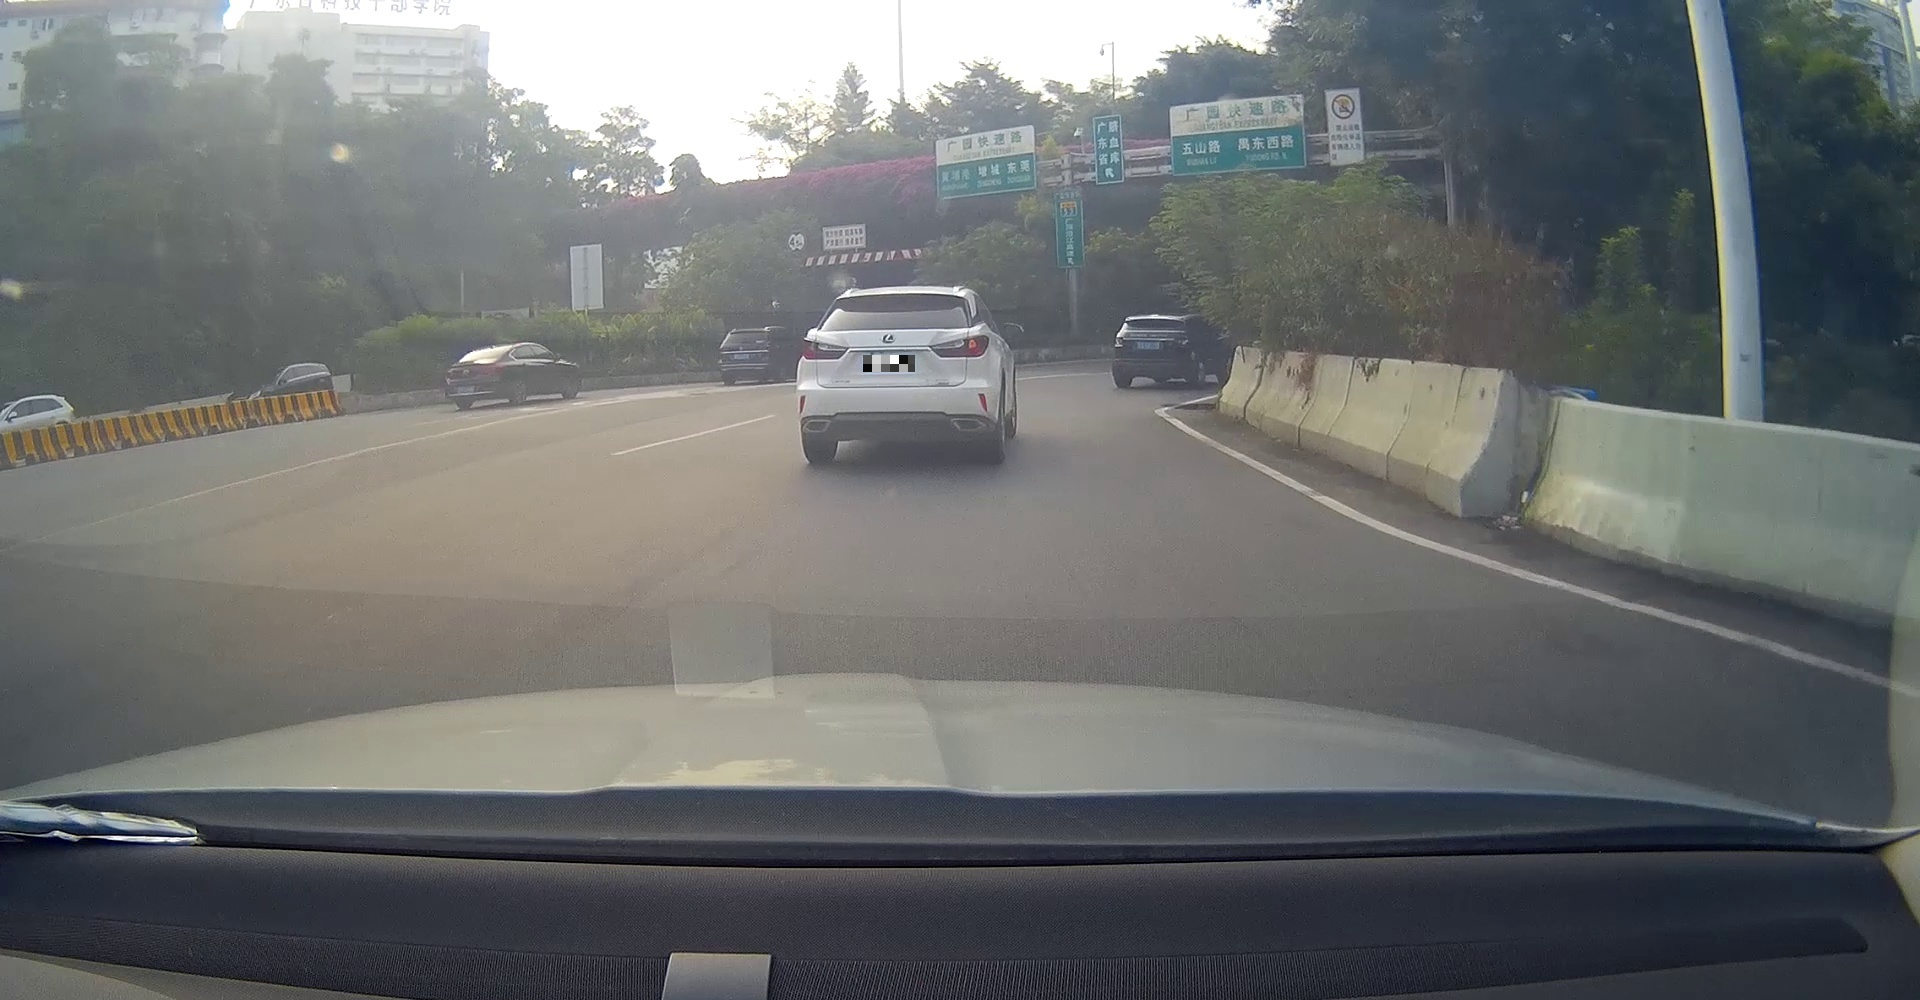L_light: (801, 338, 850, 360), (1115, 336, 1124, 346), (719, 349, 730, 355), (446, 369, 452, 378)
R_light: (927, 334, 990, 358), (481, 363, 497, 374), (1176, 336, 1189, 346), (759, 346, 771, 354)
T_light: (885, 291, 908, 298), (744, 327, 753, 332), (1149, 317, 1159, 321), (484, 346, 493, 350)
day-no: (797, 286, 992, 464), (1114, 315, 1195, 387), (444, 344, 512, 411), (717, 327, 775, 385)
plate_1: (863, 355, 916, 372)
